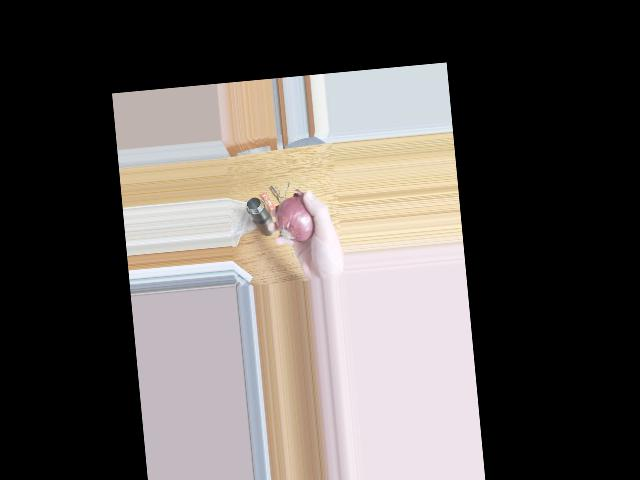onion: (279, 199, 320, 241)
